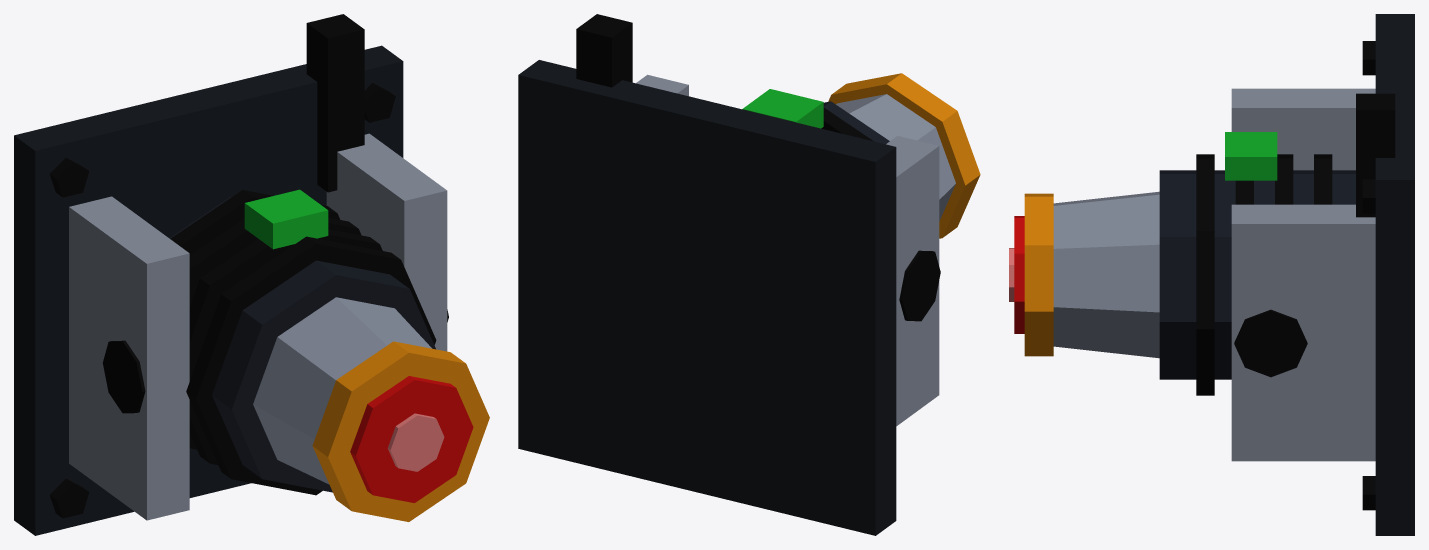
File: SM_Laser_Emitter.glb
3 views of the same model, side by side, from view 1: azimuth 30°, elevation 25°; view 2: azimuth 150°, elevation 25°; view 3: azimuth 270°, elevation 25° (orthographic). The views are drawn at different scales.
Visible parts, largest first — view 1: SM_Laser_Emitter-col; view 2: SM_Laser_Emitter-col; view 3: SM_Laser_Emitter-col.
Boxes of the visible parts, left/top/right/bottom form: SM_Laser_Emitter-col: left=14, top=14, right=489, bottom=535; SM_Laser_Emitter-col: left=518, top=14, right=980, bottom=535; SM_Laser_Emitter-col: left=1009, top=14, right=1414, bottom=535.
Size of the model in its own units: 0.3 by 0.34 by 0.31.
